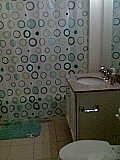Lavamanos: (69, 63, 117, 87)
Sanitario: (54, 134, 119, 159)
